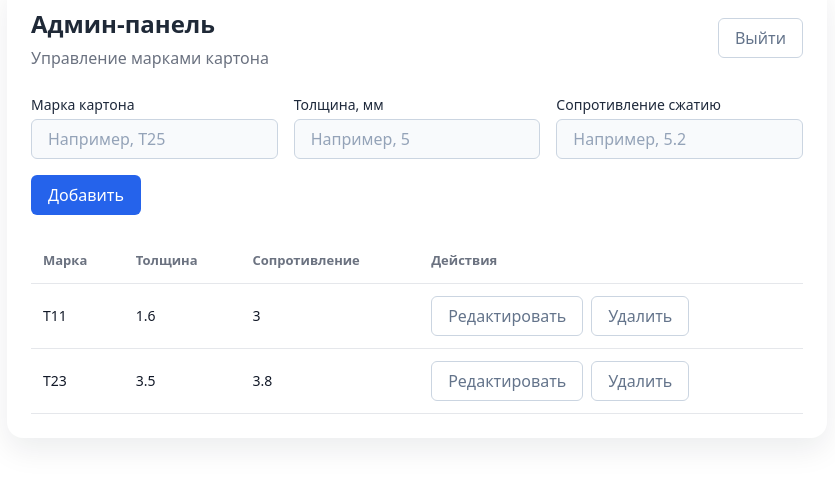
AdminPanel › редактирует марку картона и показывает success-сообщение
Click the button "Редактировать" in the row of "Т11".
click(507, 316)  # box [431,296,583,336]
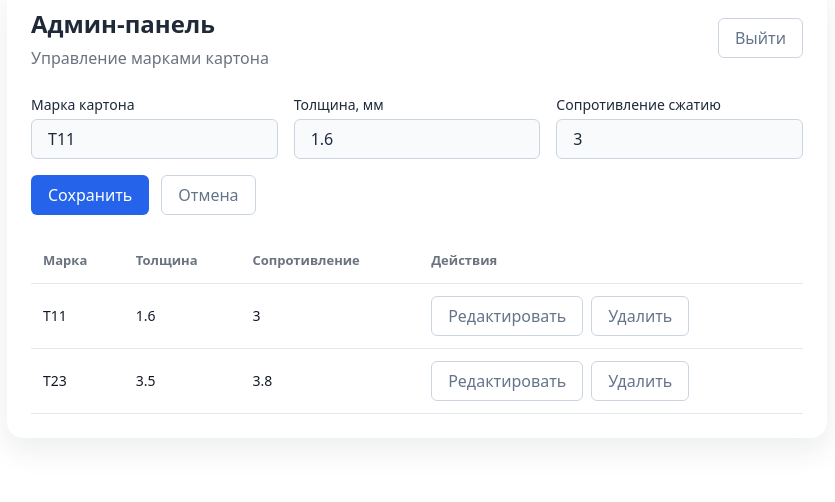
Replace the text in the field with test id "input-field" showing "Марка картона" with "Т11 updated" at (154, 139), box [31,119,278,159]
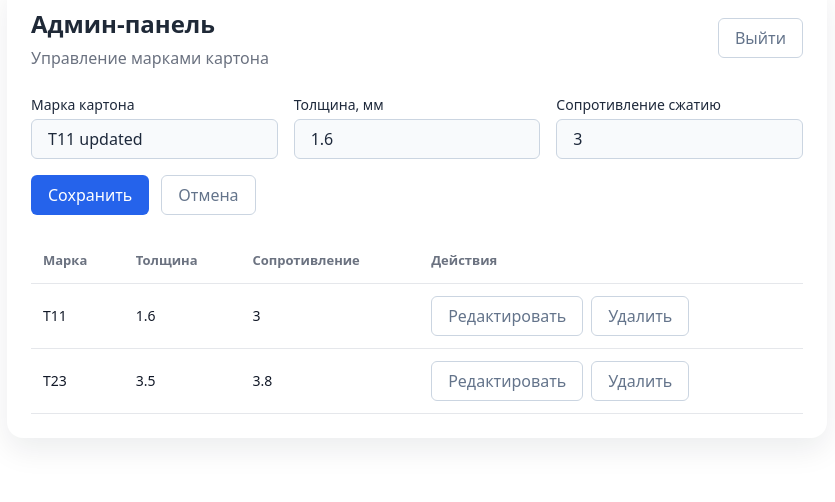
Replace the text in the number field with test id "input-field" showing "Толщина, мм" with "1.7" at (417, 139), box [294,119,540,159]
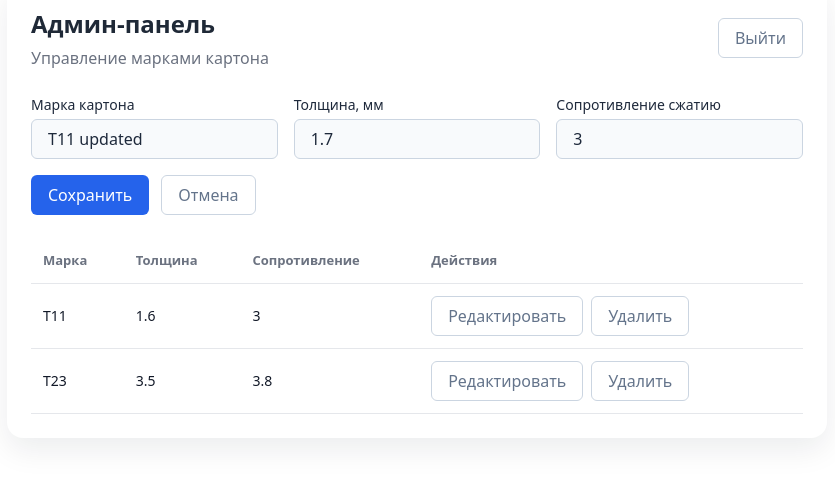
Replace the text in the number field with test id "input-field" showing "Сопротивление сжатию" with "3.1" at (680, 139), box [556,119,803,159]
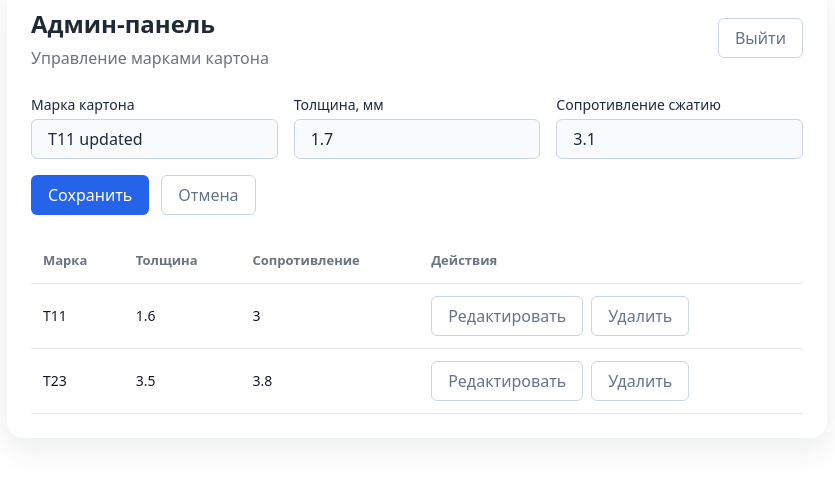
Submit the form, box [31,94,803,215]
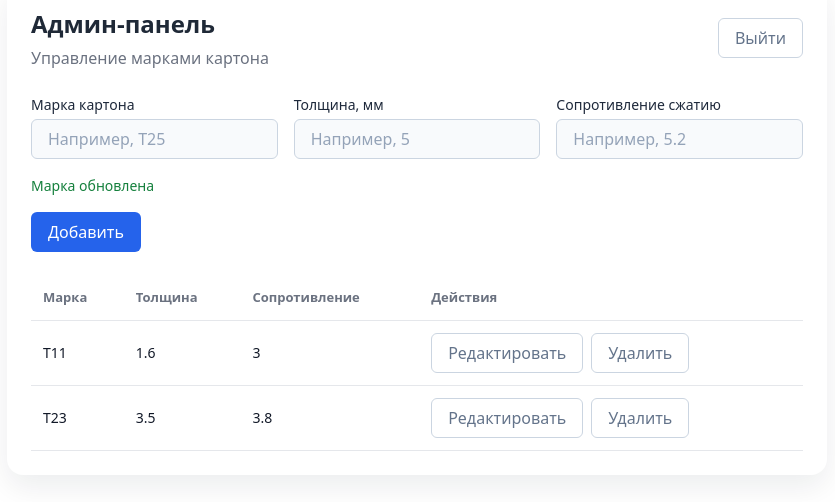
Now the text "Марка обновлена" is shown, box [31,176,154,195]
